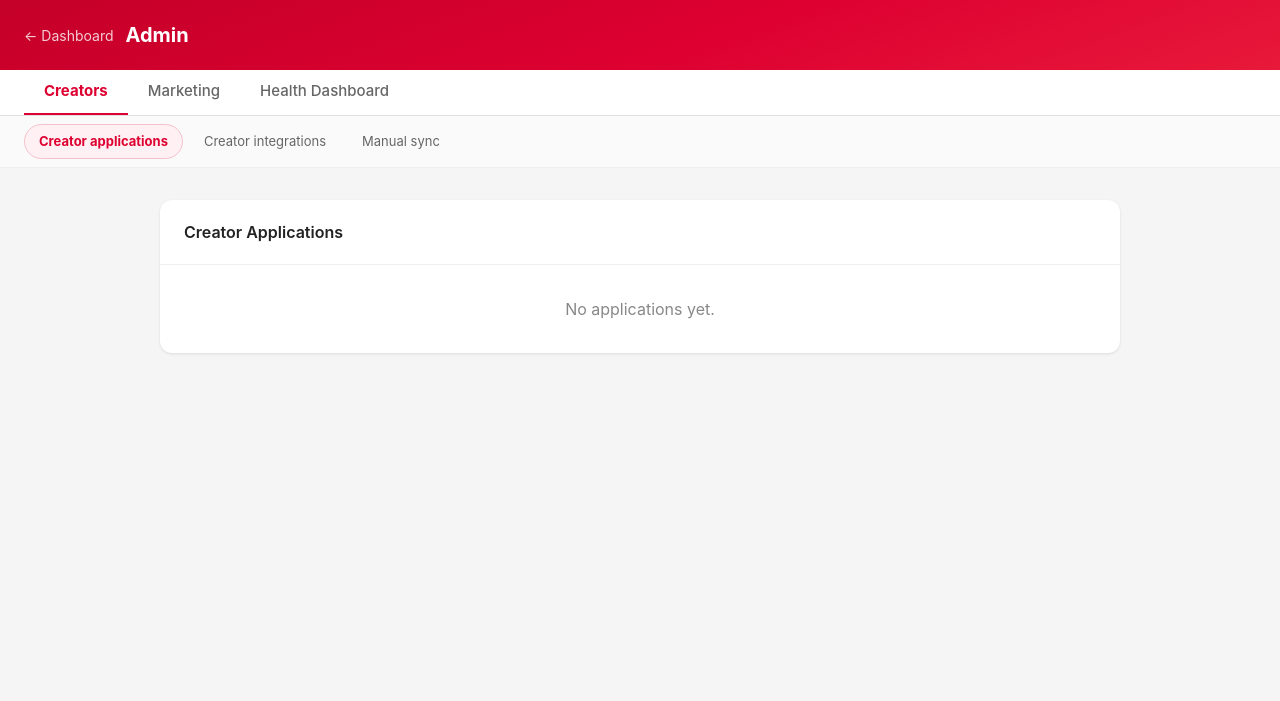
Scenario: admin Sources tab — poll health › labels the successful poll as successful, so it cannot be read as "the queue reached them"
The image size is (1280, 701).
What coordinates should you click on to do the following:
click the button "Creator integrations"
I would click on:
 (265, 141)
Its box is x1=189 y1=124 x2=341 y2=159.
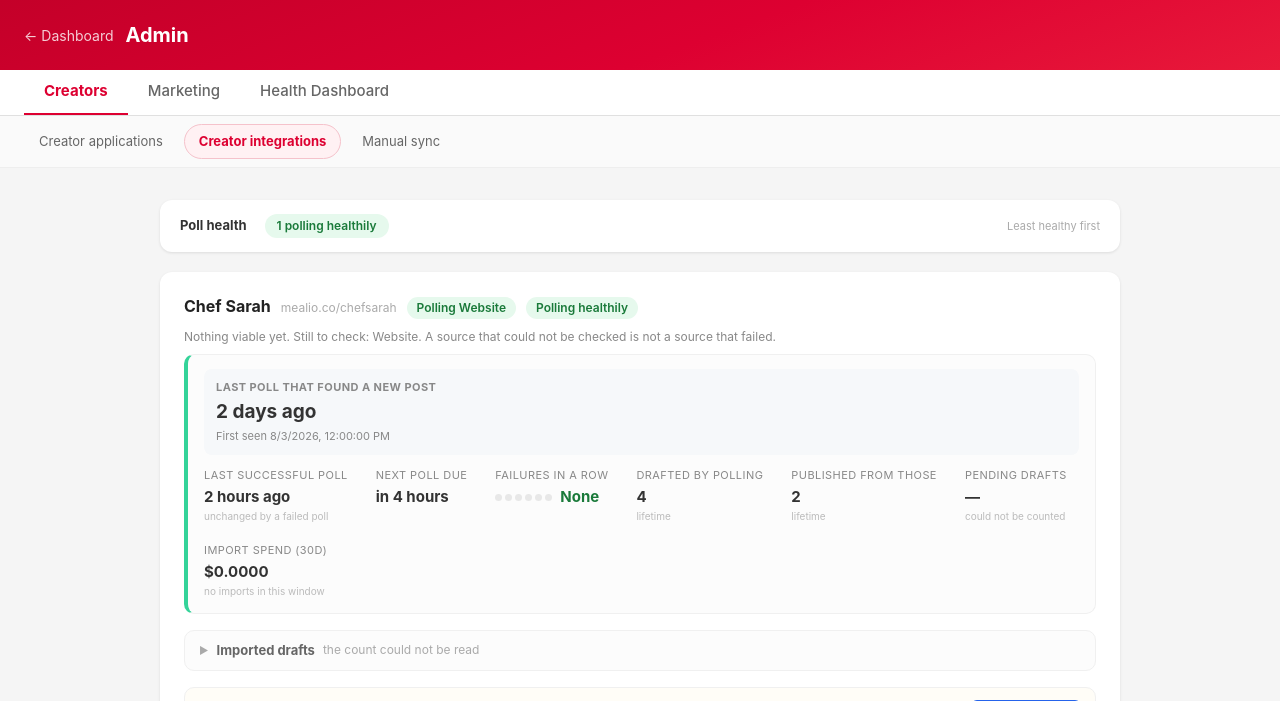
Now the element with test id "poll-health-summary" is shown, box x1=160 y1=200 x2=1120 y2=252
Now the element with test id "poll-health-c1" shows "Last successful poll", box x1=204 y1=468 x2=348 y2=482
Now the element with test id "poll-health-c1" shows "unchanged by a failed poll", box x1=204 y1=510 x2=328 y2=522
